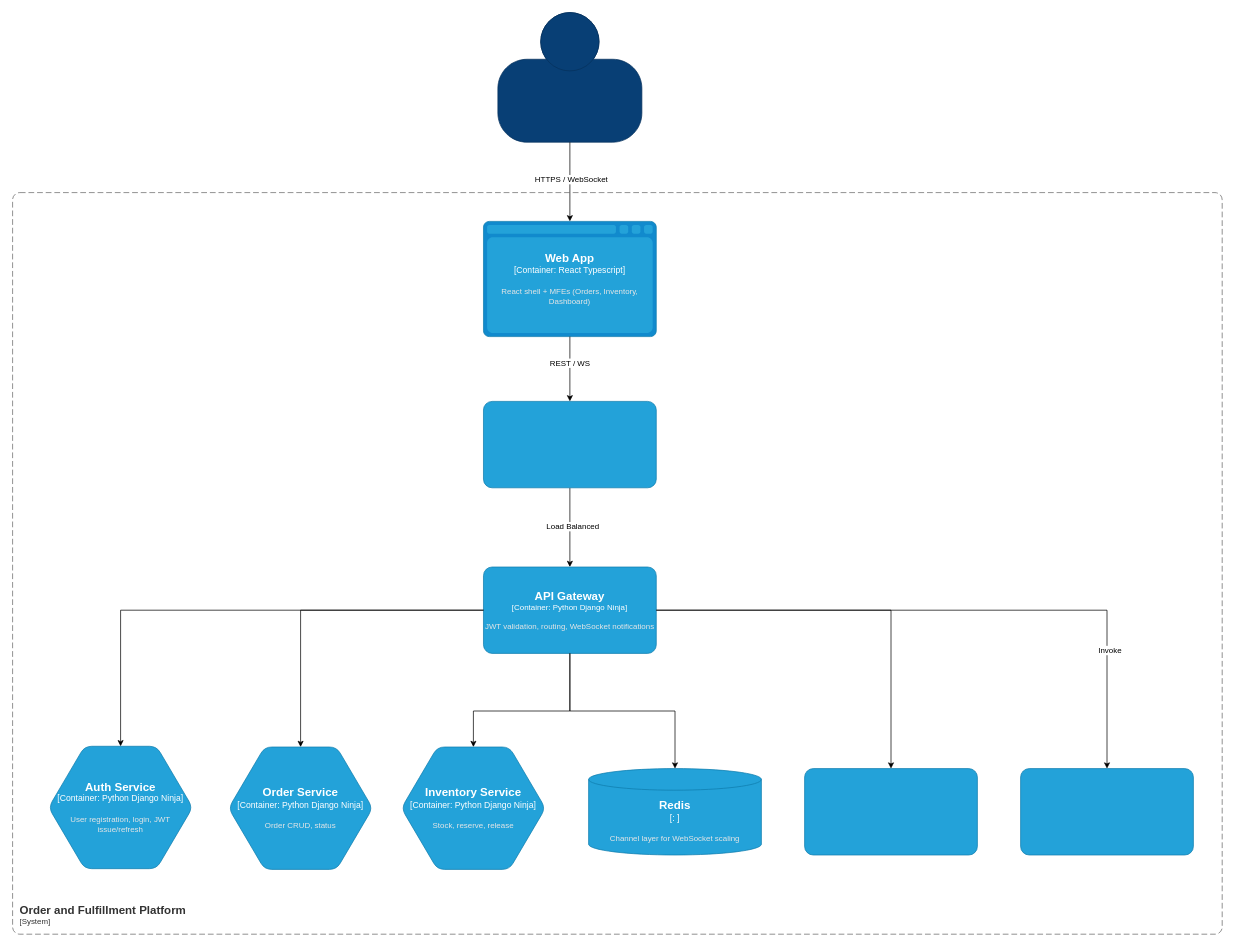
The diagram is 1235 pixels wide and 947 high, and some of its shapes have lost their labels. Each missing label, with the centre of its shape:
"AWS Lambda [Container: ] Invoice PDF Generation" belongs at (x=1106, y=811).
"Nginx [: ] Reverse proxy, load balancer, rate limiting, static" belongs at (x=569, y=444).
"RabbitMQ [: ] Async messaging" belongs at (x=890, y=811).
"User [User]" belongs at (x=569, y=77).
